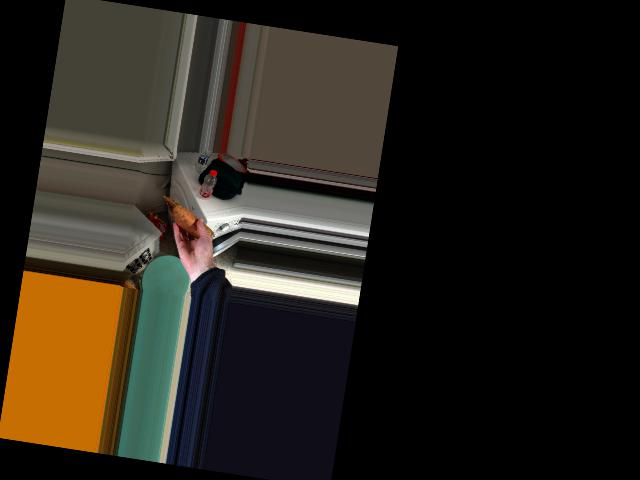sweet_potato: (172, 207, 211, 237)
